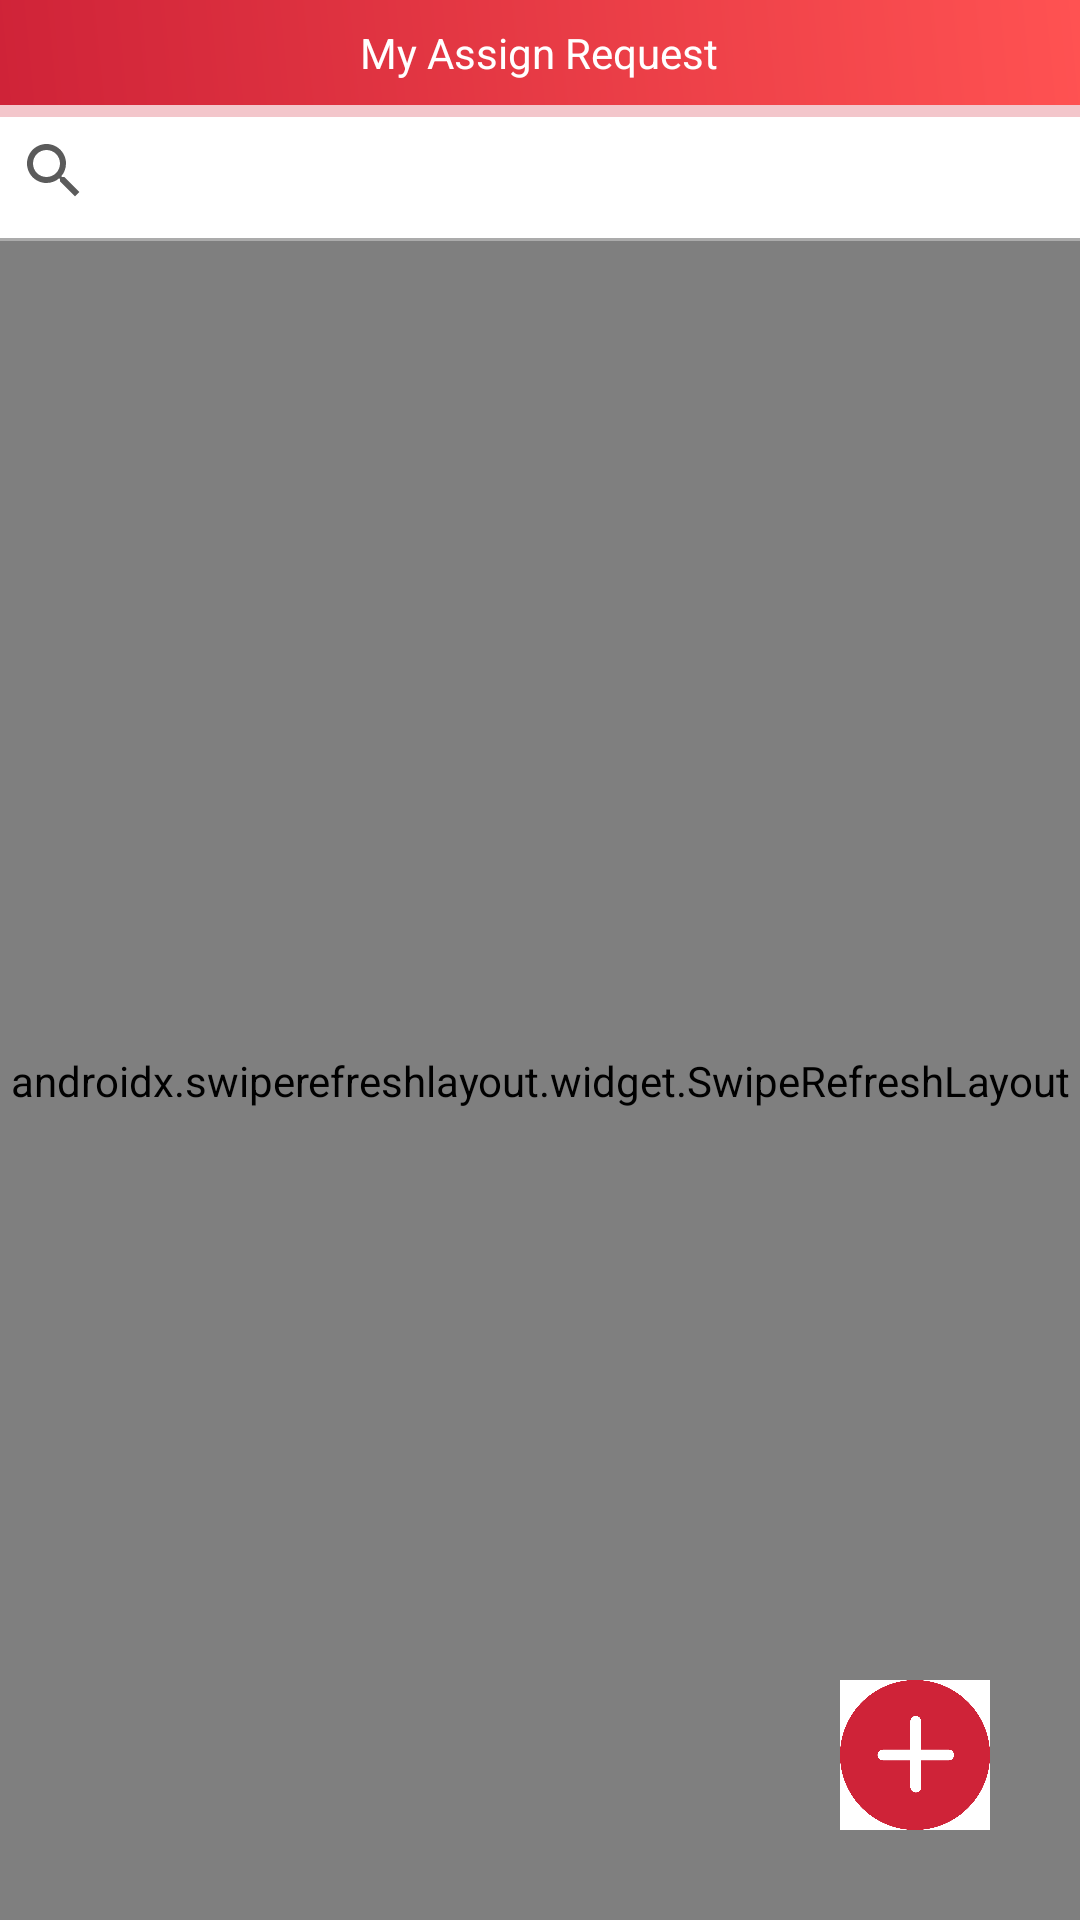

Icon bounding boxes for this 1080×1920 phone screenshot, format (x1, y1, x2, y2):
add: (840, 1680, 990, 1830)
search: (27, 144, 79, 196)
